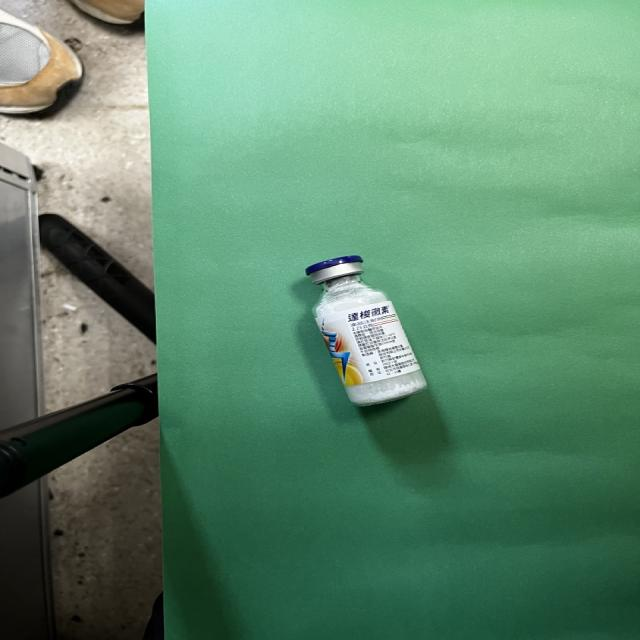Vials: (305, 256, 426, 406)
